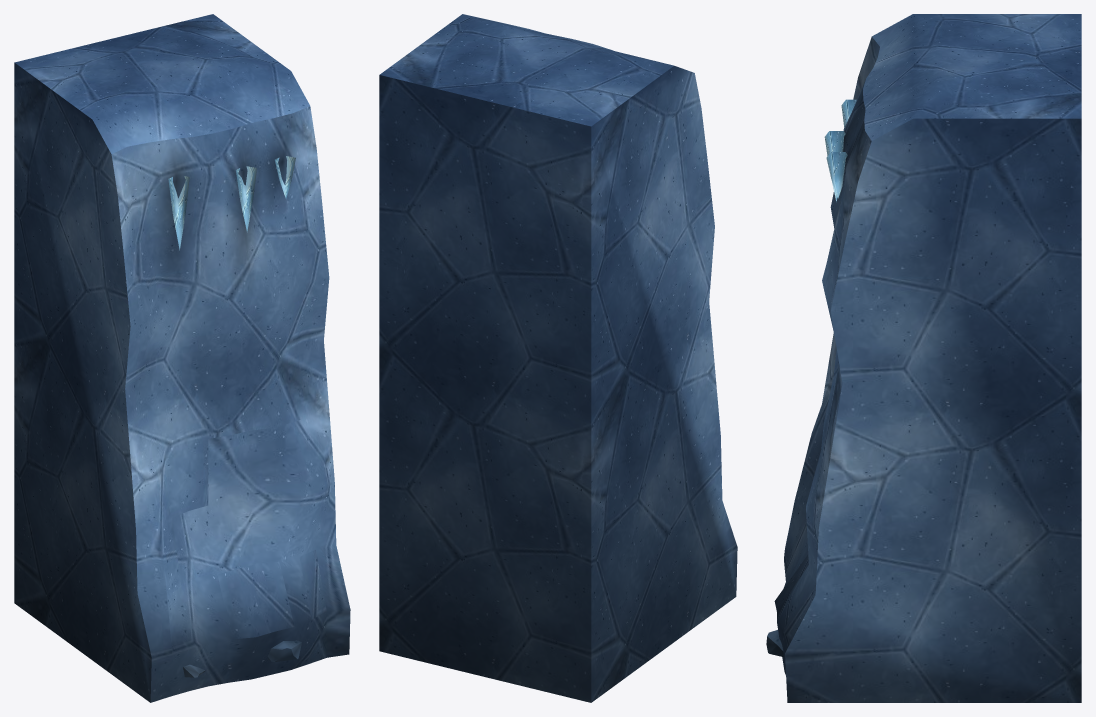
Rendered from cave_wall_ice_b.glb.
3 views of the same model, side by side, from view 1: azimuth 30°, elevation 25°; view 2: azimuth 150°, elevation 25°; view 3: azimuth 270°, elevation 25° (orthographic). The views are drawn at different scales.
Parts seen in each view (by area): view 1: cave_wall_ice_b; view 2: cave_wall_ice_b; view 3: cave_wall_ice_b.
Boxes of the visible parts, box(x1,y1,x2,y2) form: cave_wall_ice_b: box(14, 14, 350, 702); cave_wall_ice_b: box(379, 14, 737, 702); cave_wall_ice_b: box(766, 14, 1081, 702).
Size of the model in its own units: 1 by 2.65 by 1.27.
2 materials, 2 textured.
